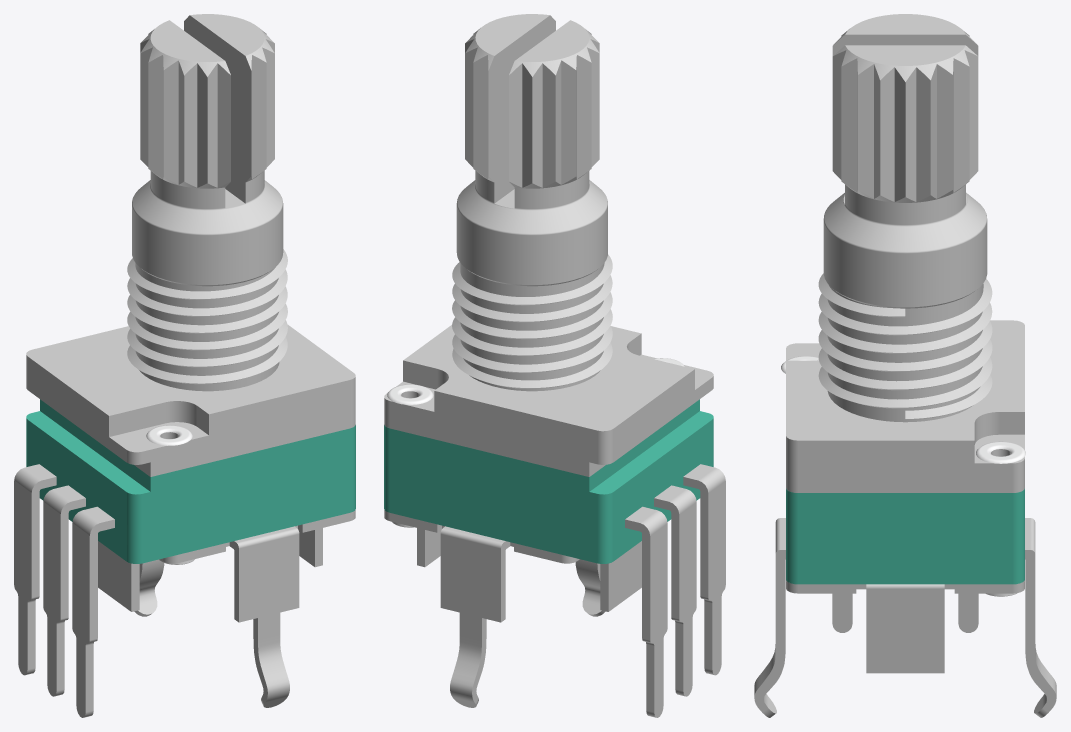
Rendered from pot_RD901F_T18_shaft_alpha_9mm_vertical.glb.
3 views of the same model, side by side, from view 1: azimuth 30°, elevation 25°; view 2: azimuth 150°, elevation 25°; view 3: azimuth 270°, elevation 25° (orthographic). The views are drawn at different scales.
Parts seen in each view (by area): view 1: Solid2, Solid6, Solid1, Solid7, Solid3; view 2: Solid2, Solid6, Solid1, Solid7, Solid3; view 3: Solid6, Solid2, Solid1, Solid7, Solid3.
Boxes of the visible parts, x1,y1,x2,y2 form: Solid2: (14,324,355,717); Solid6: (132,14,283,286); Solid1: (26,399,355,563); Solid7: (127,249,287,391); Solid3: (146,425,194,564); Solid2: (384,325,725,717); Solid6: (456,14,607,286); Solid1: (384,399,713,563); Solid7: (452,254,612,391); Solid3: (387,358,684,527); Solid6: (823,14,987,308); Solid2: (754,320,1056,717); Solid1: (786,488,1024,584); Solid7: (818,273,992,422); Solid3: (781,356,1025,596).
Bounding box in the file's own units: 0.0126 × 0.0296 × 0.012.
